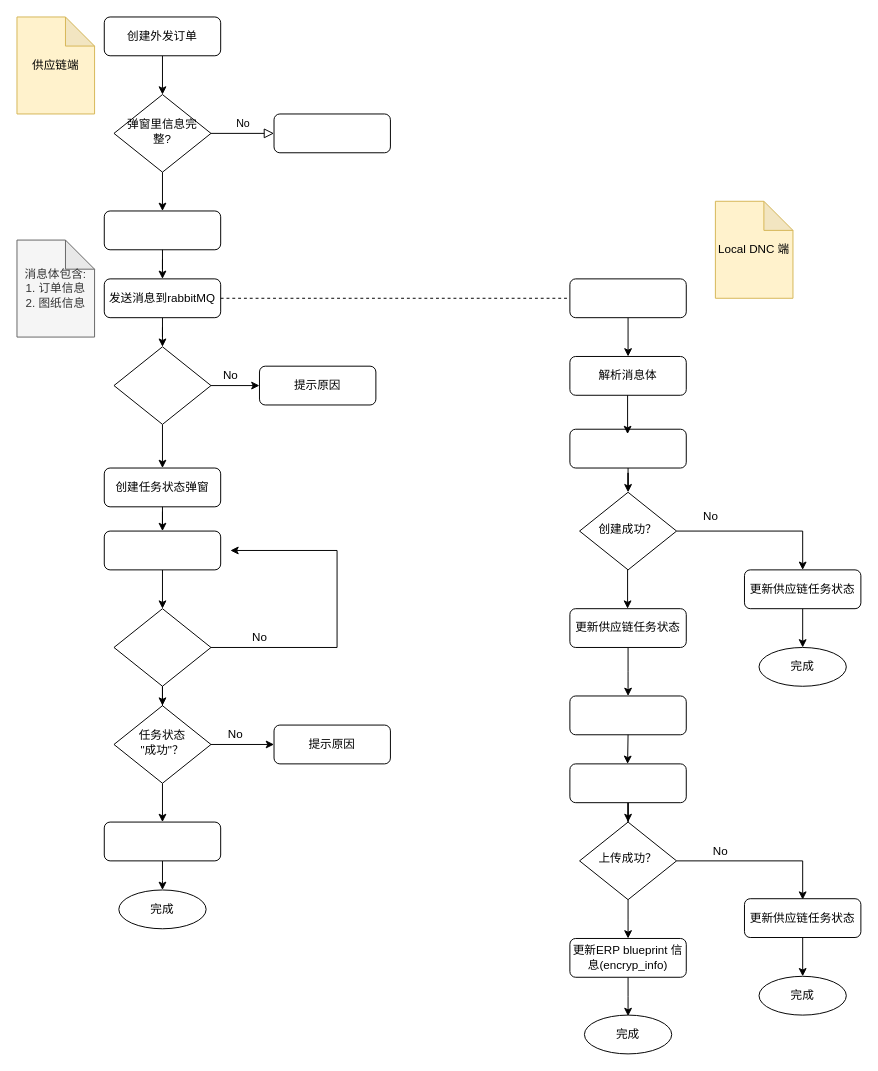
Image size: 878x1071. Some labels were removed from this diagram. Each missing label, with the centre of its shape:
POST 到 ERP 创建外发订单: the point at 627,448
从FTP获取图纸,并上传到供应链: the point at 627,715
任务状态 "完成"？: the point at 162,647
创建成功弹窗: the point at 162,841
发送成功？: the point at 162,385
收到rabbitMQ消息: the point at 627,298
无法创建: the point at 331,133
更新上传状态/进度: the point at 627,783
查询创建任务状态，更新弹窗信息: the point at 162,550
点击创建: the point at 162,230
